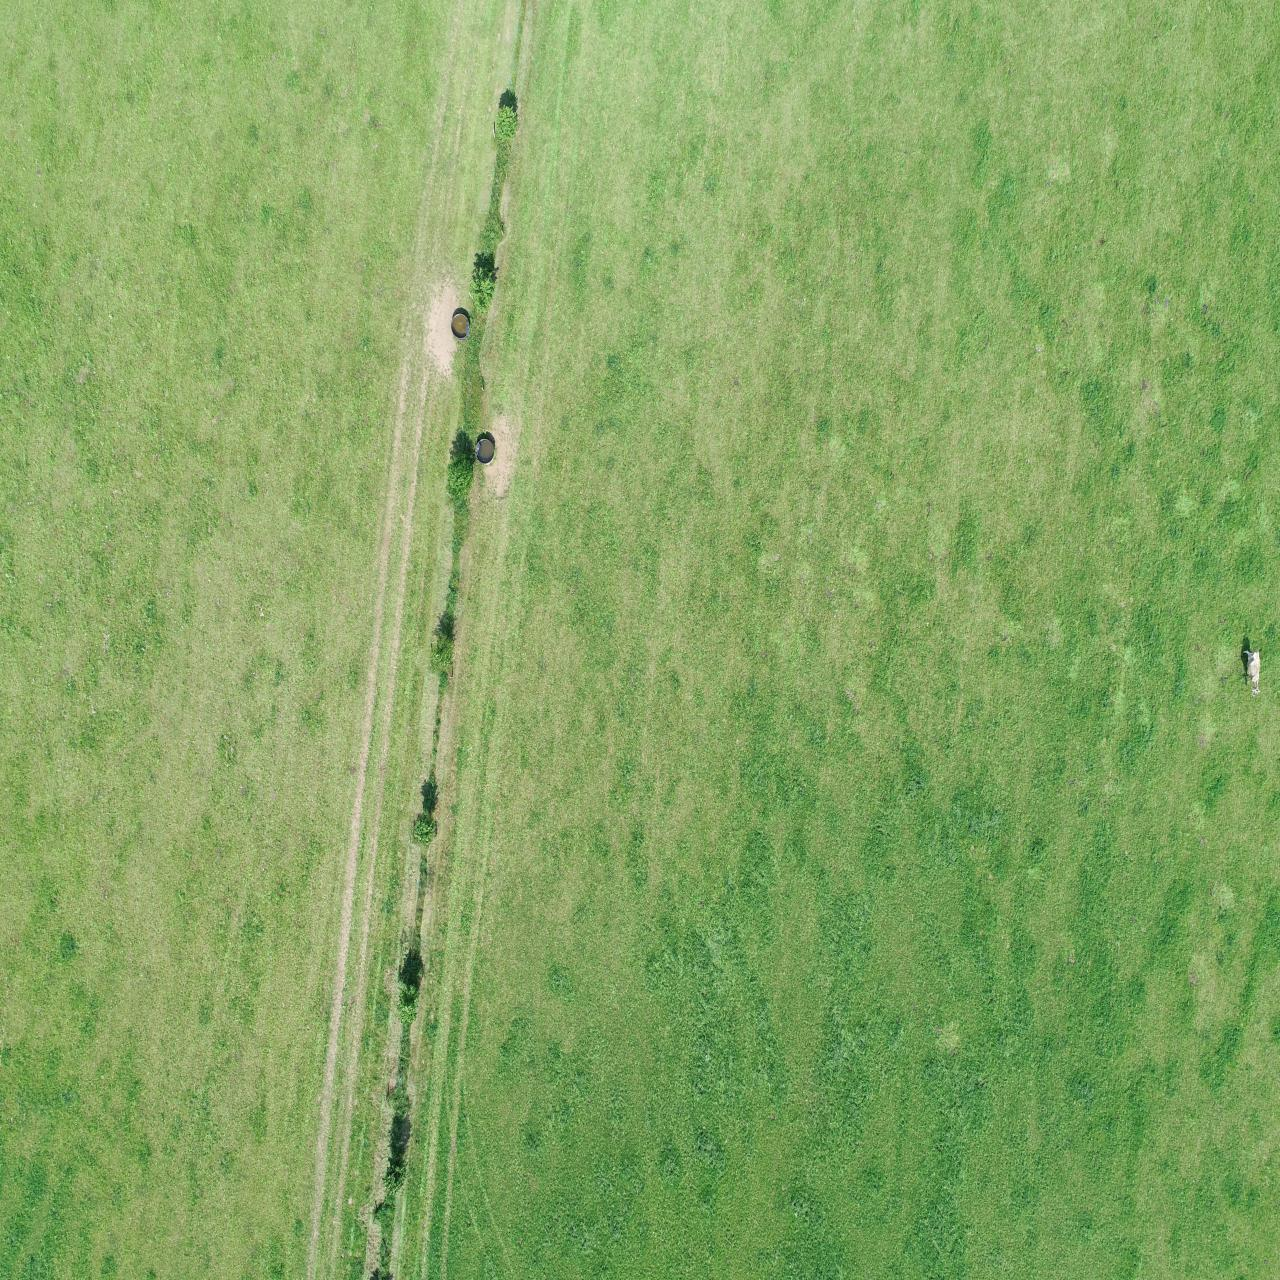cow: (1244, 646, 1261, 700)
